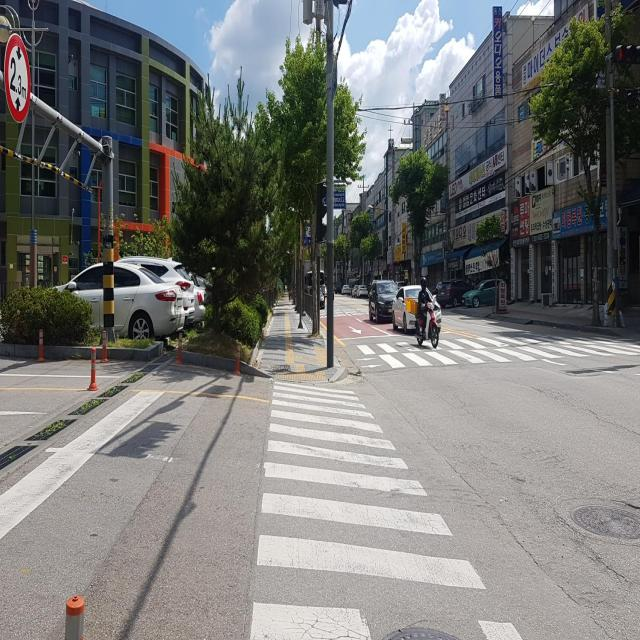횡단보도: (248, 376, 524, 640), (352, 336, 640, 372)
